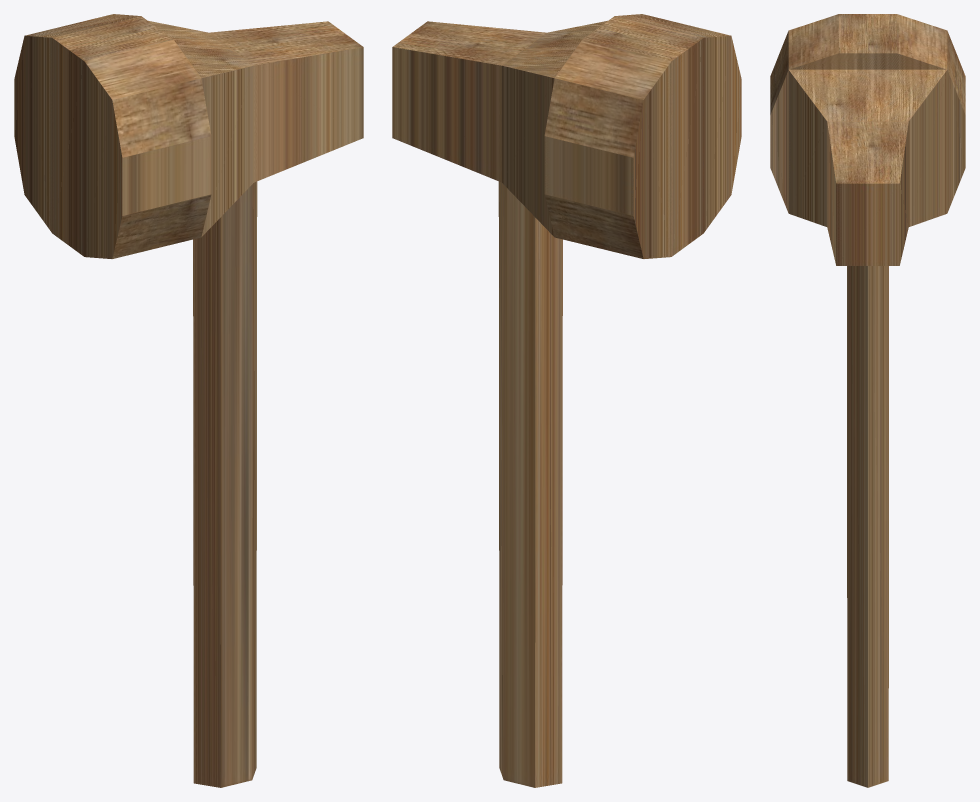
File: wooden-hammer.obj
The picture shows the model from 3 angles, left to right: view 1: azimuth 30°, elevation 25°; view 2: azimuth 150°, elevation 25°; view 3: azimuth 270°, elevation 25°; orthographic projection. The views are drawn at different scales.
Parts seen in each view (by area): view 1: Mesh_Mesh.002_KingdomHamme; view 2: Mesh_Mesh.002_KingdomHamme; view 3: Mesh_Mesh.002_KingdomHamme.
Part boxes in pixels (bbox=[...]): Mesh_Mesh.002_KingdomHamme: bbox=[14, 14, 363, 787]; Mesh_Mesh.002_KingdomHamme: bbox=[392, 14, 741, 787]; Mesh_Mesh.002_KingdomHamme: bbox=[770, 14, 965, 787].
Size of the model in its own units: 0.5527 by 1.45 by 0.3723.
Materials: 2 (2 with a texture image).
